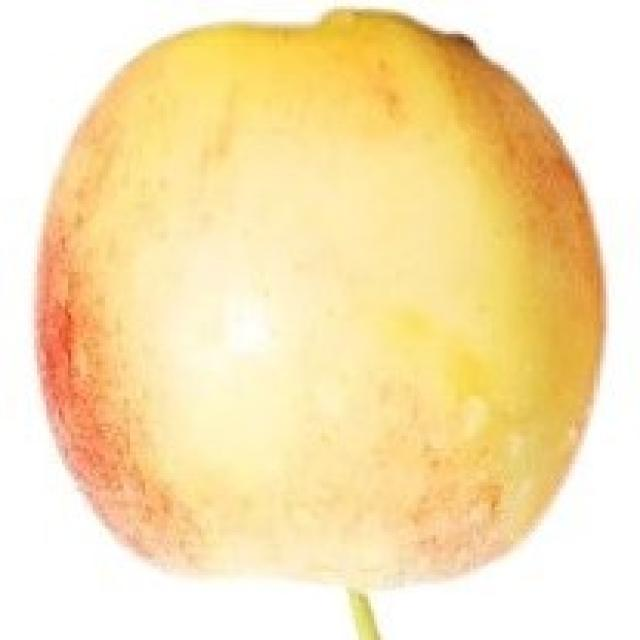75-_ripeness: (43, 10, 608, 588)
